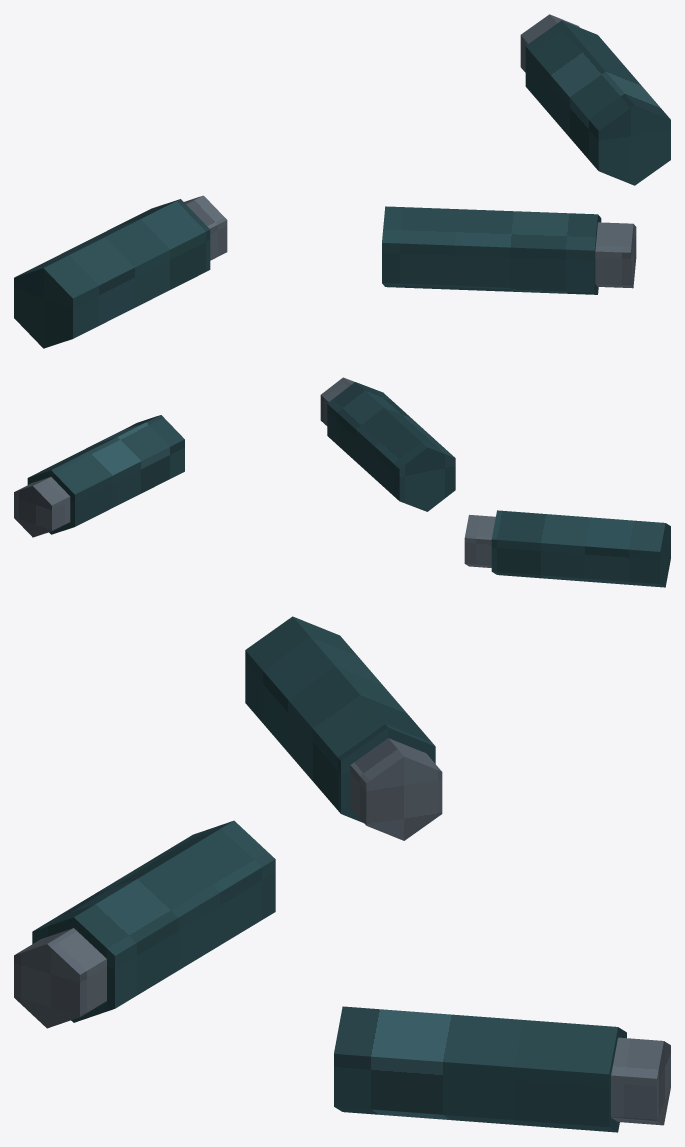
Rendered from vials.gltf.
The picture shows the model from 3 angles, top to bottom: view 1: azimuth 30°, elevation 25°; view 2: azimuth 150°, elevation 25°; view 3: azimuth 270°, elevation 25°; orthographic projection. The views are drawn at different scales.
Visible parts, largest first — view 1: vials; view 2: vials; view 3: vials.
Boxes of the visible parts, <box> form: vials: <box>14,14,670,348</box>; vials: <box>14,377,670,587</box>; vials: <box>14,616,670,1132</box>.
Size of the model in its own units: 0.4455 by 0.05 by 0.2819.
2 materials, 2 textured.
